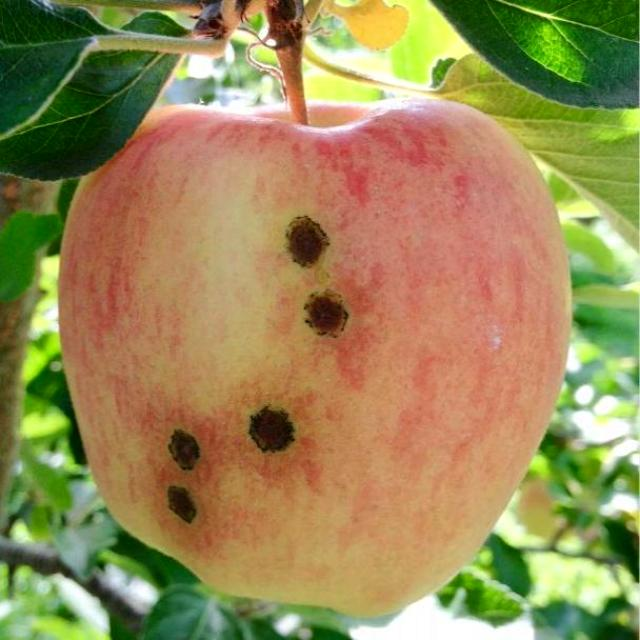SCAB: (53, 72, 582, 632)
